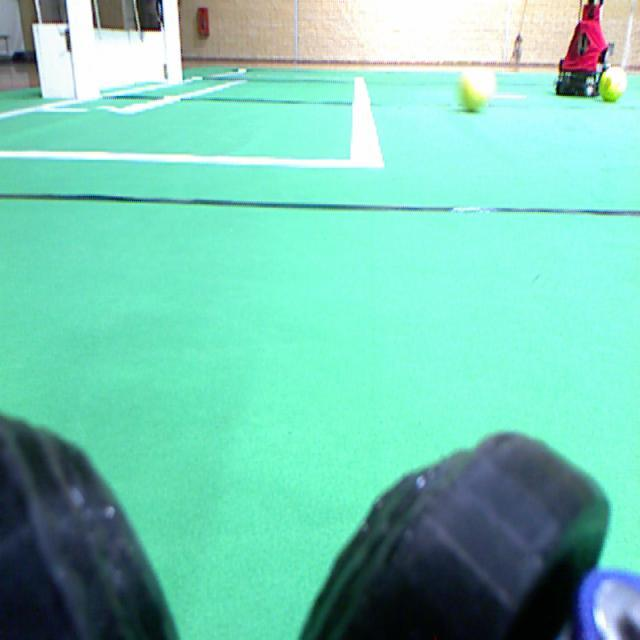ball: (458, 68, 495, 111), (599, 67, 626, 101)
goal: (66, 0, 99, 100), (163, 0, 181, 83)
